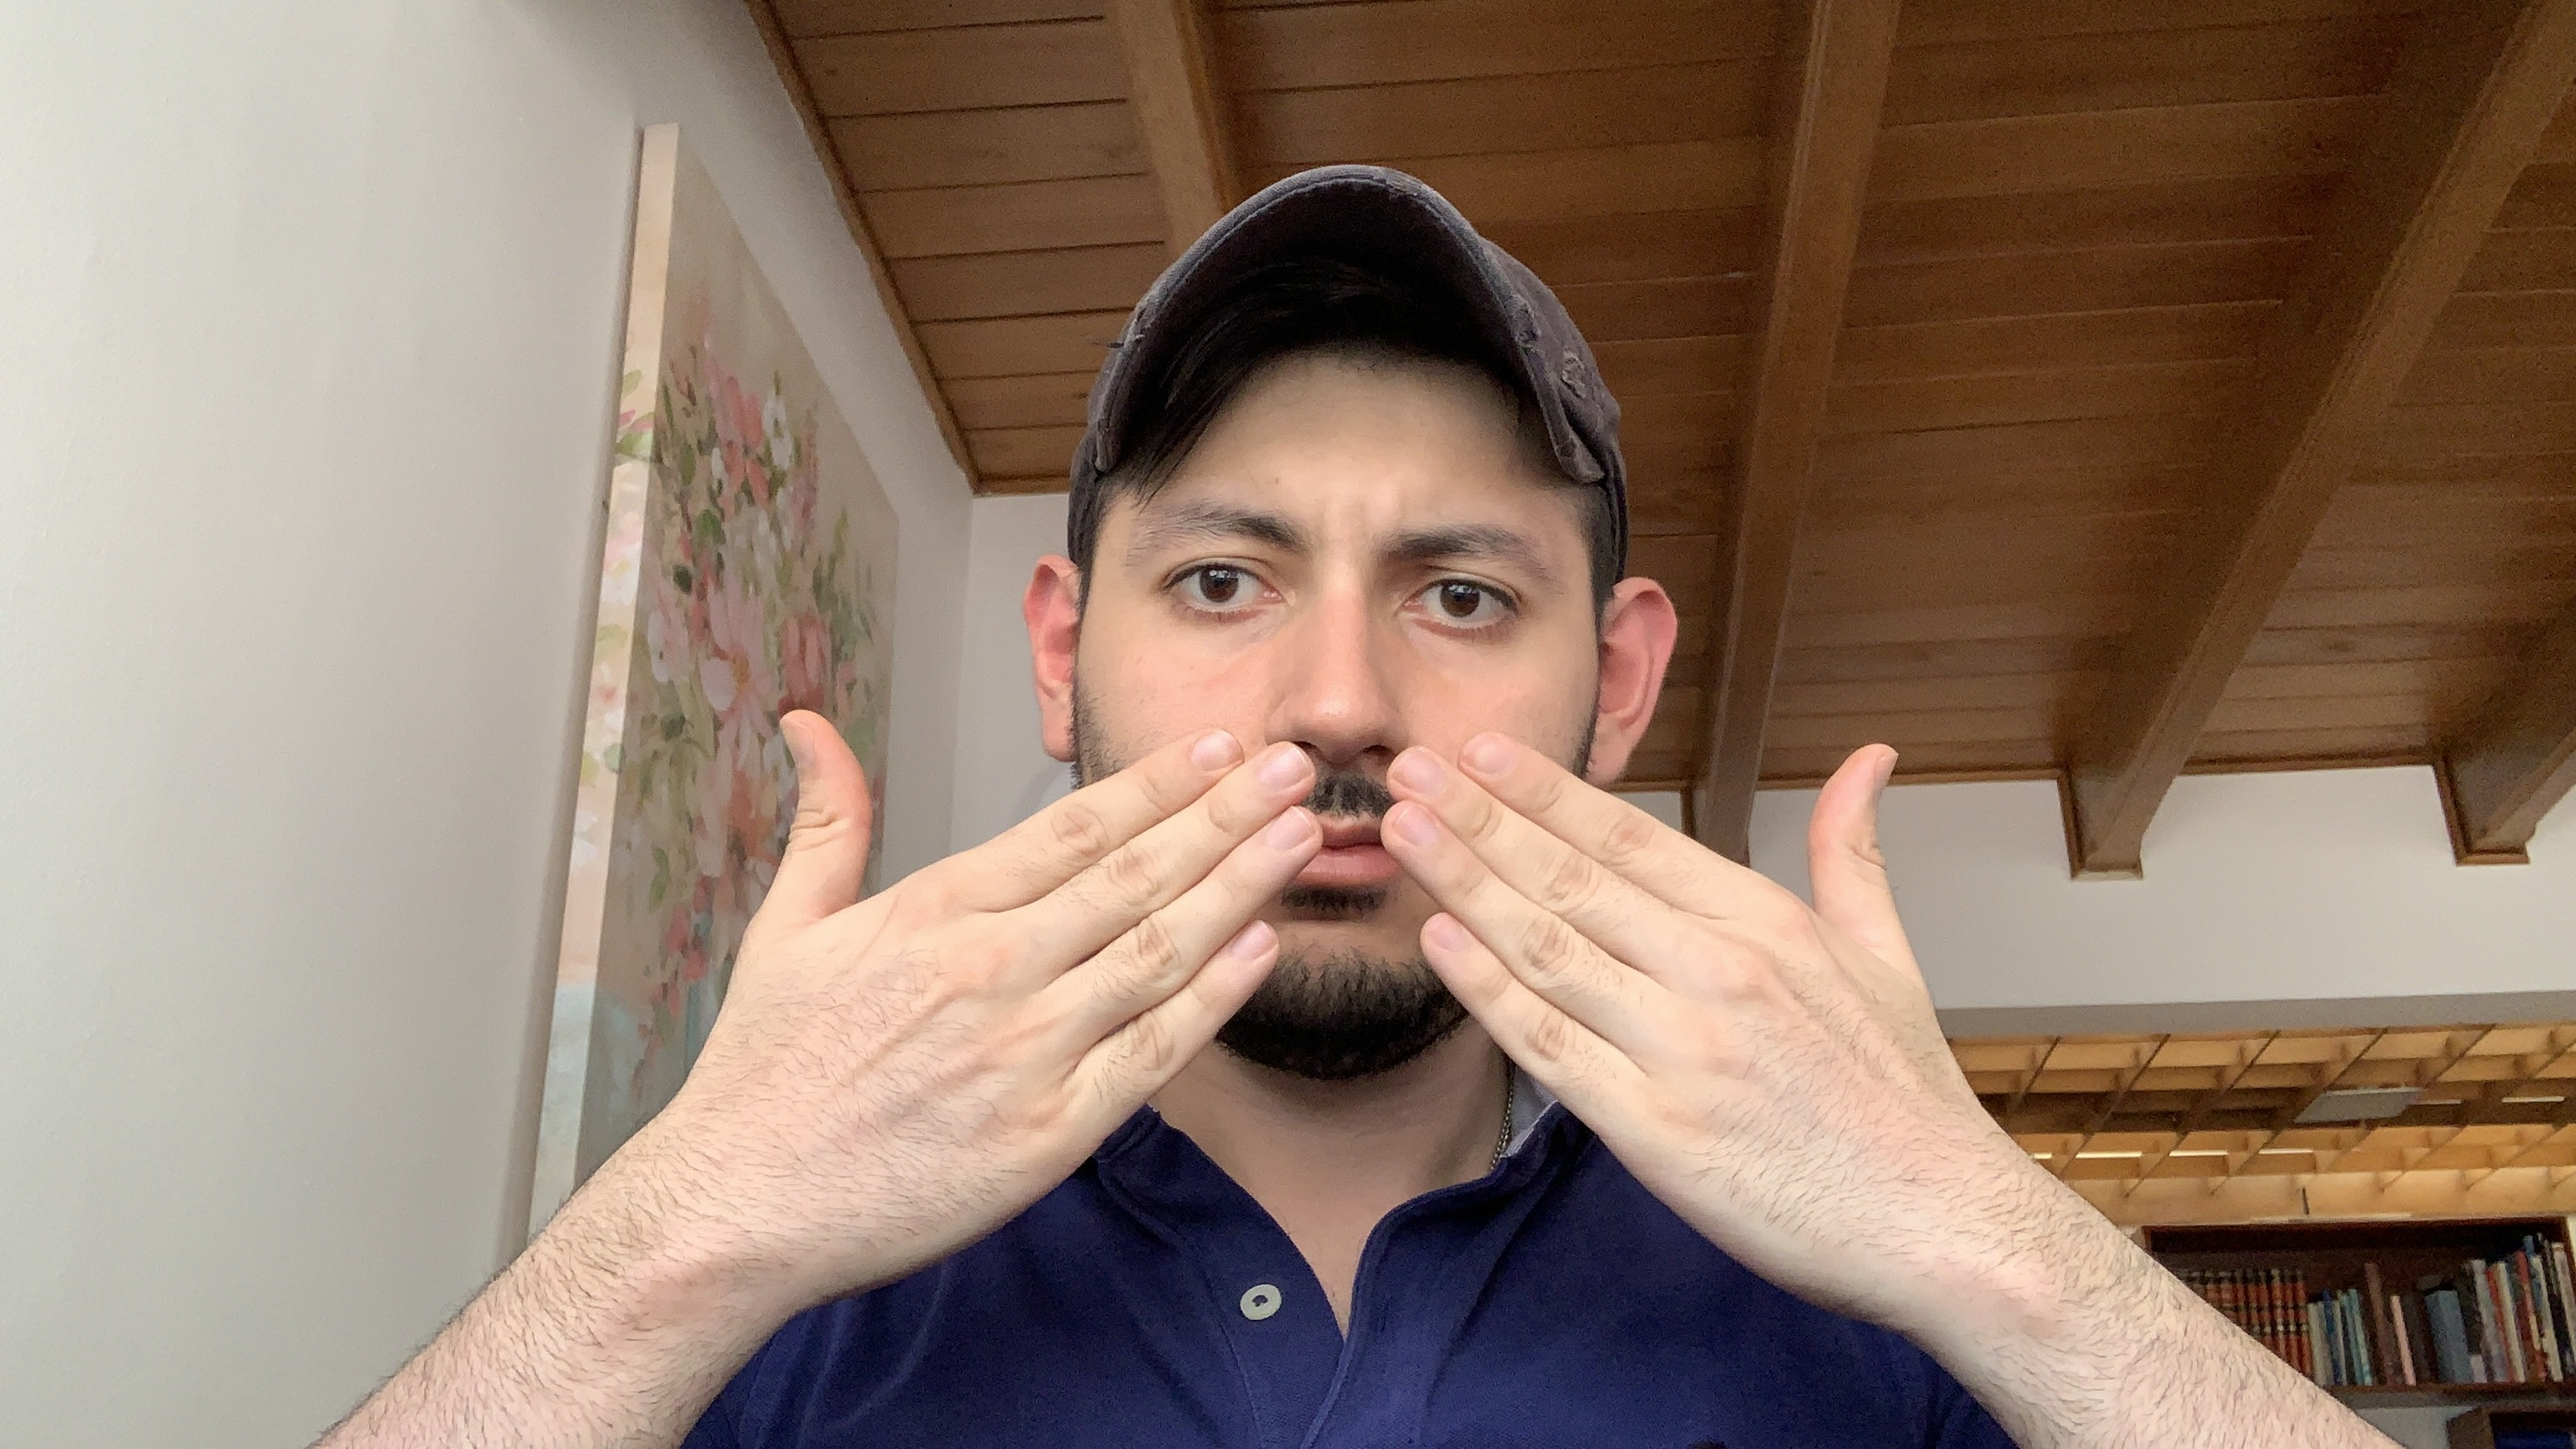Thank You: (681, 701, 1920, 1361)
